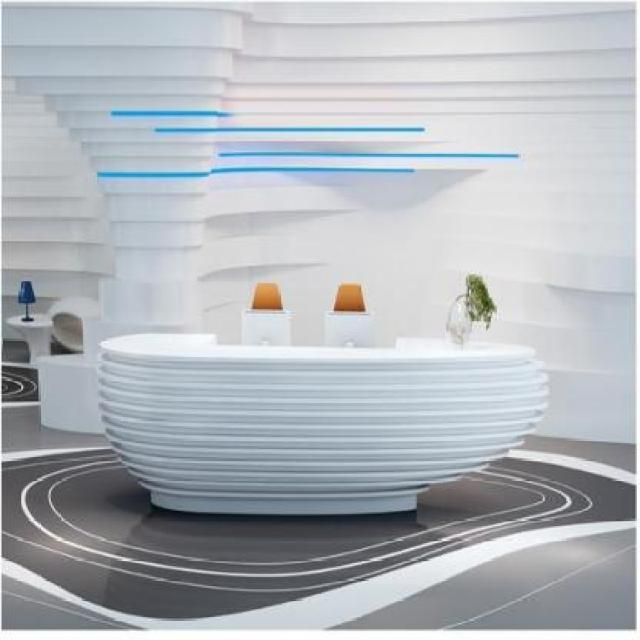frontdesk: (98, 278, 551, 524)
